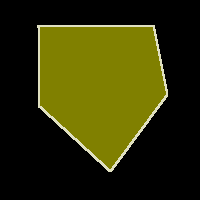tie: (38, 25, 167, 171)
